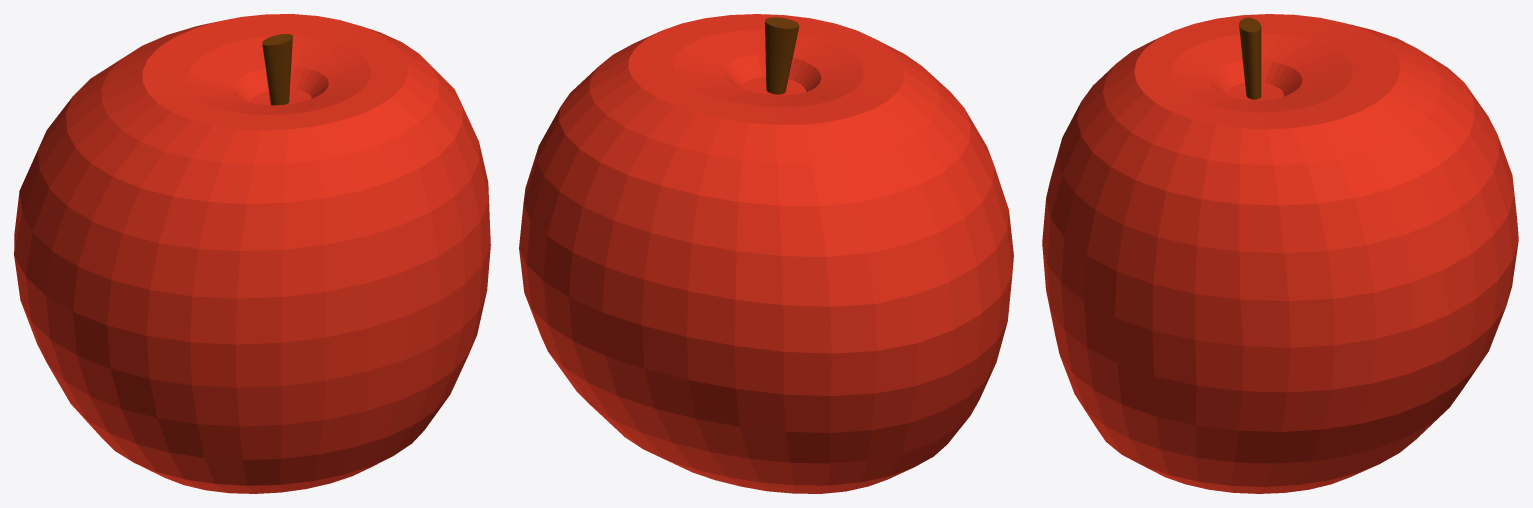
File: Apple.fbx
The picture shows the model from 3 angles, left to right: view 1: azimuth 30°, elevation 25°; view 2: azimuth 150°, elevation 25°; view 3: azimuth 270°, elevation 25°; orthographic projection. The views are drawn at different scales.
Parts seen in each view (by area): view 1: Apple, Stem; view 2: Apple, Stem; view 3: Apple, Stem.
Boxes of the visible parts, x1=… form: Apple: x1=14, y1=14, x2=490, y2=493; Stem: x1=262, y1=34, x2=292, y2=105; Apple: x1=519, y1=14, x2=1013, y2=493; Stem: x1=765, y1=17, x2=799, y2=94; Apple: x1=1042, y1=14, x2=1518, y2=493; Stem: x1=1239, y1=17, x2=1261, y2=99.
Bounding box in the file's own units: 50.98 × 48.26 × 48.41.
